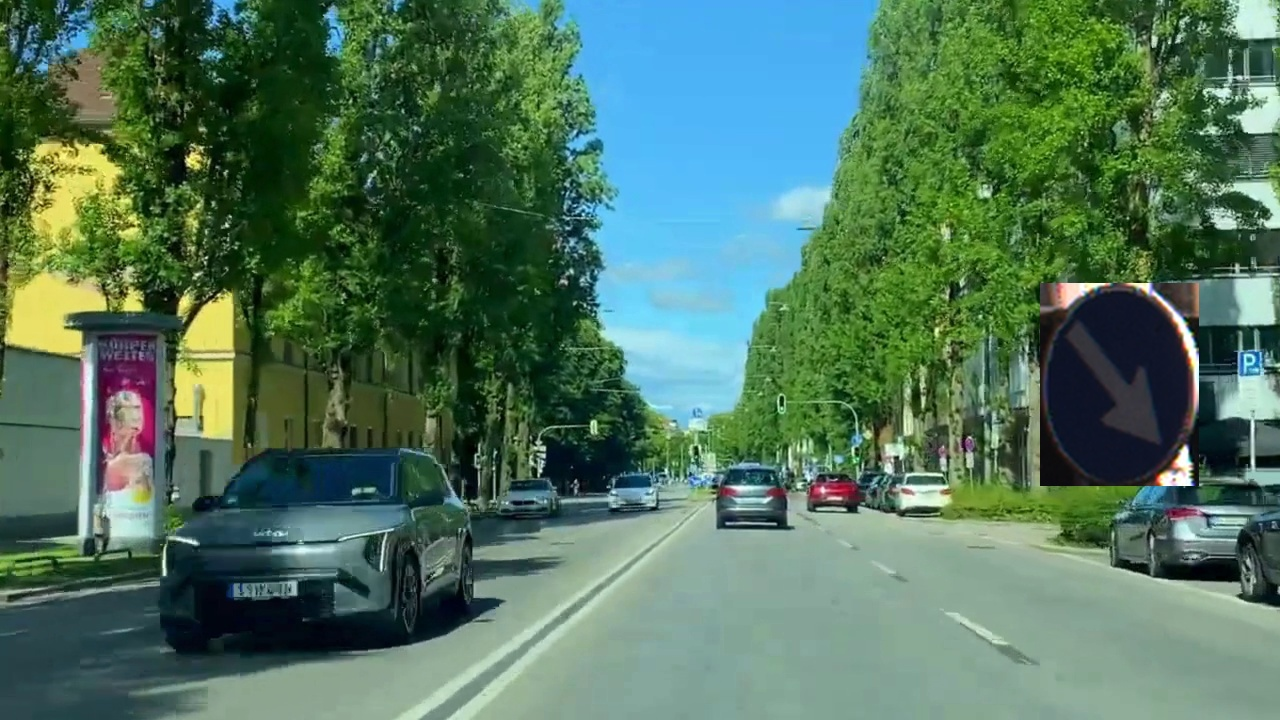Keep right: (1040, 283, 1199, 486)
